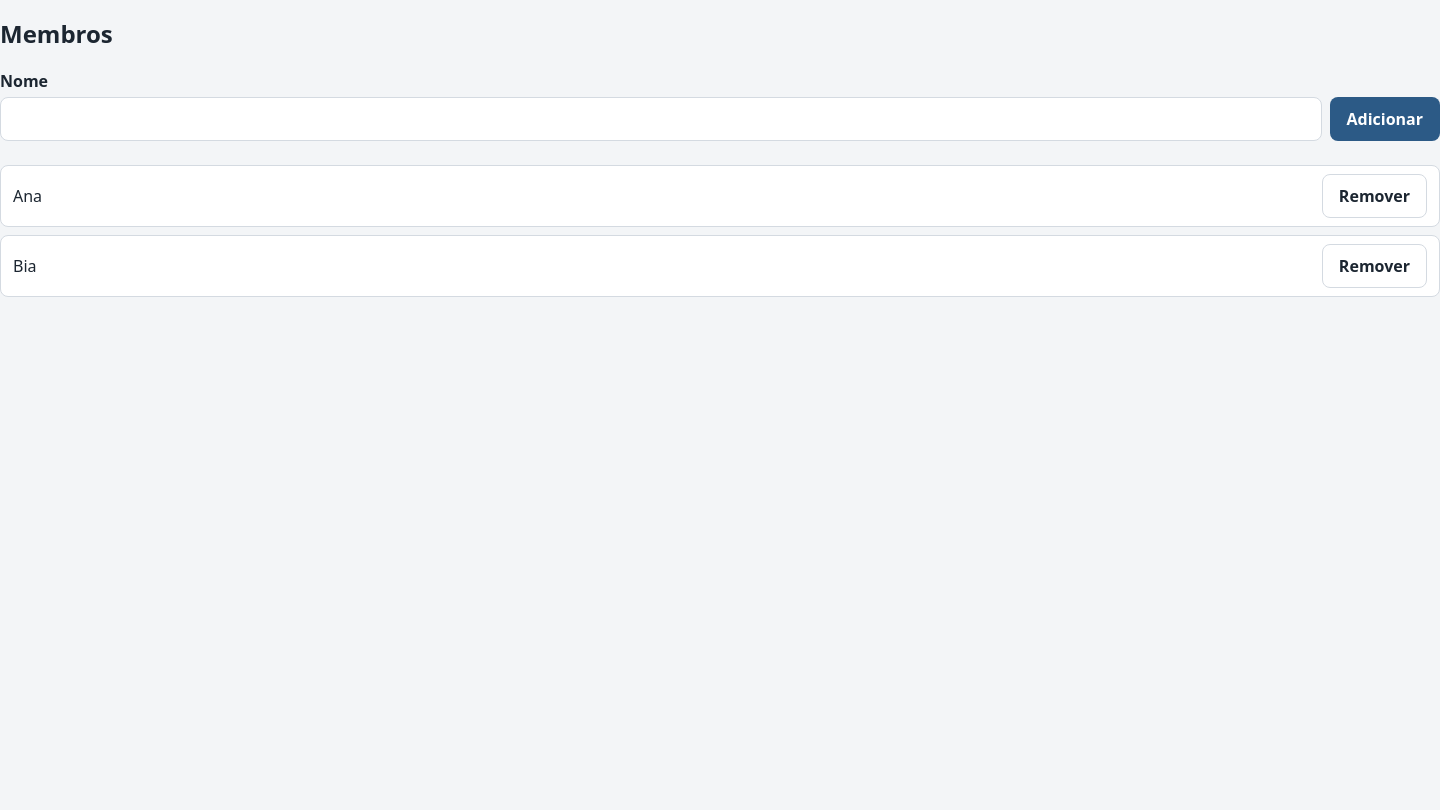
Test: MembersPage › remove um membro depois de confirmar
Click the button with aria-label "Remover Ana": (1374, 196) [1322,174,1427,218]
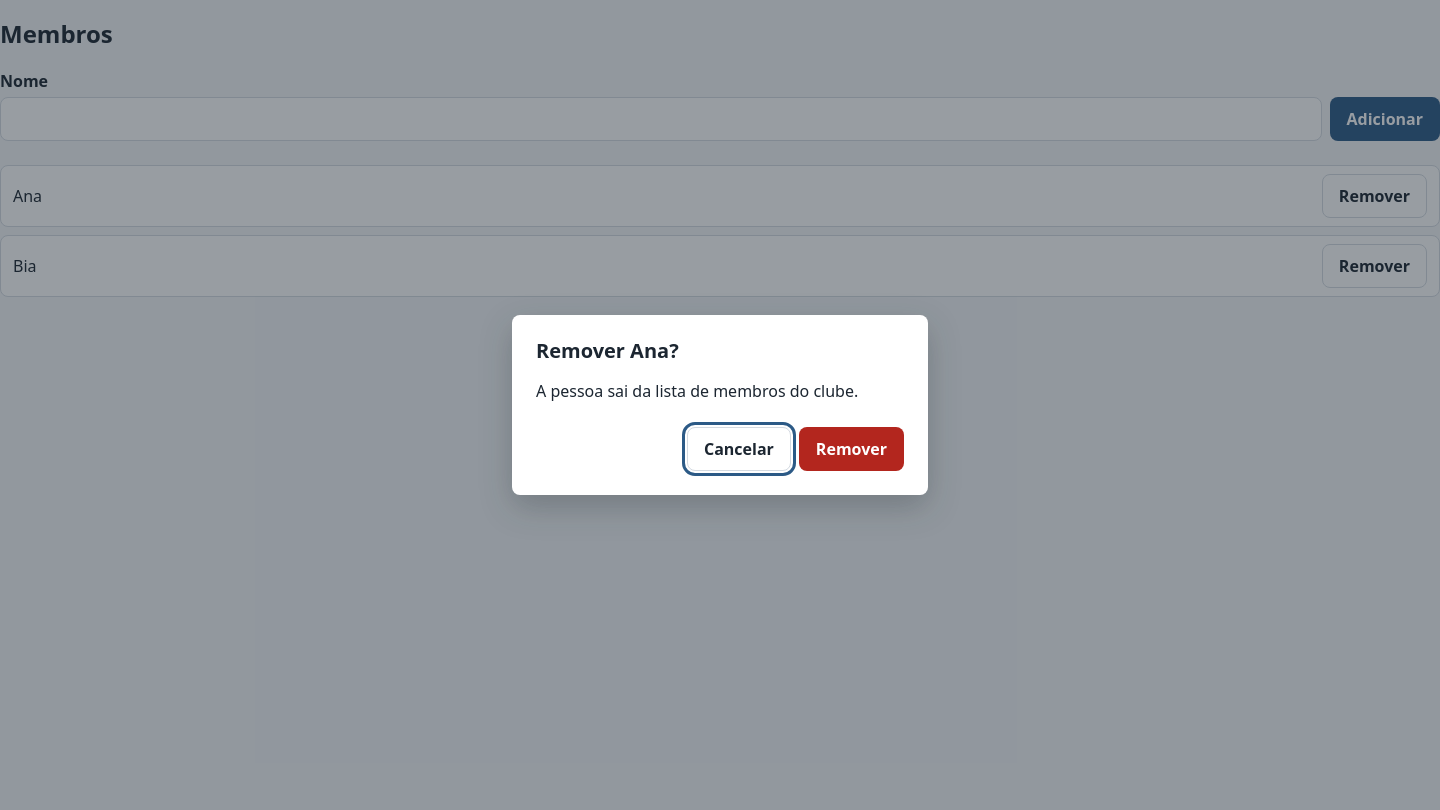
Click the button "Remover": (851, 449) [799,427,904,471]
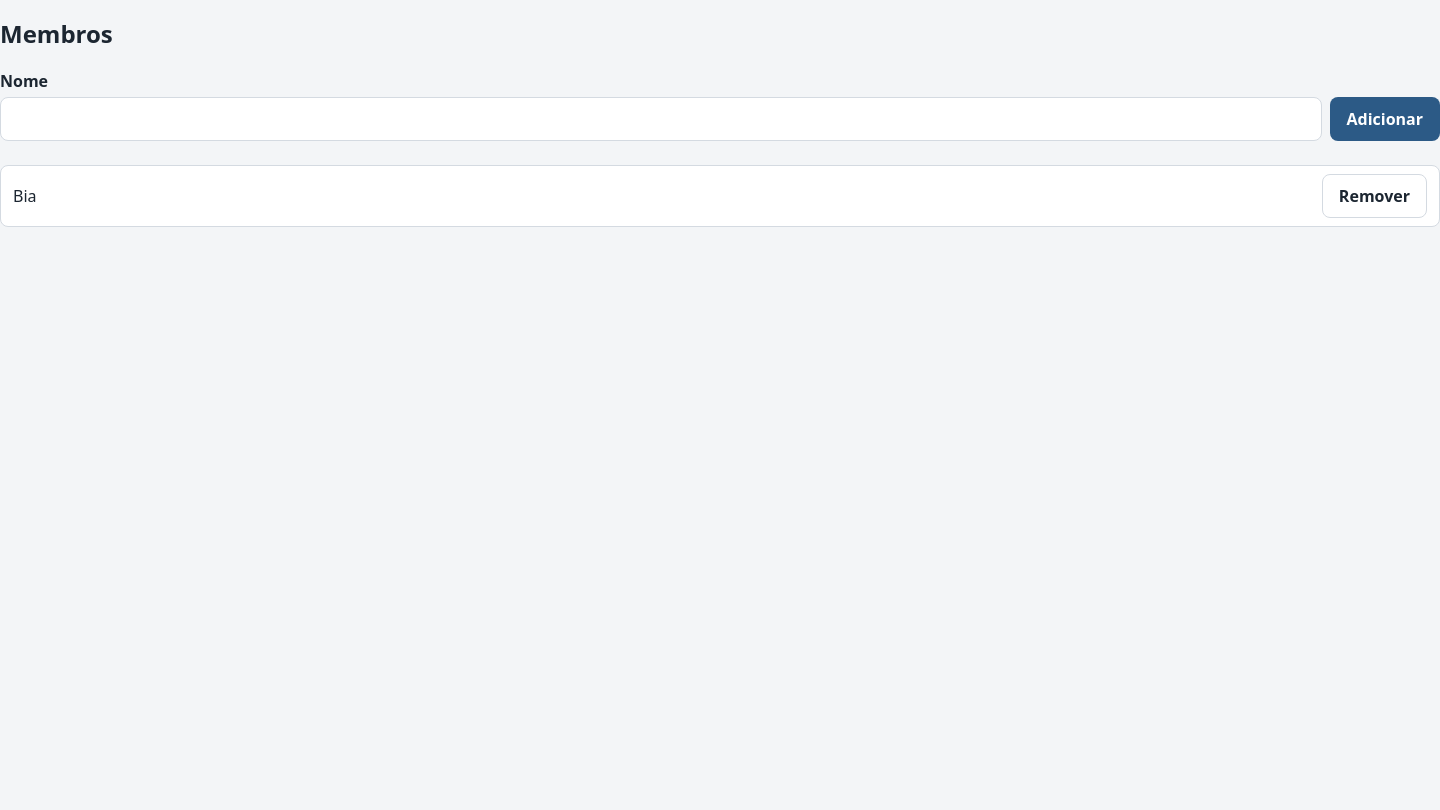
Expected: the text "Ana" is gone
